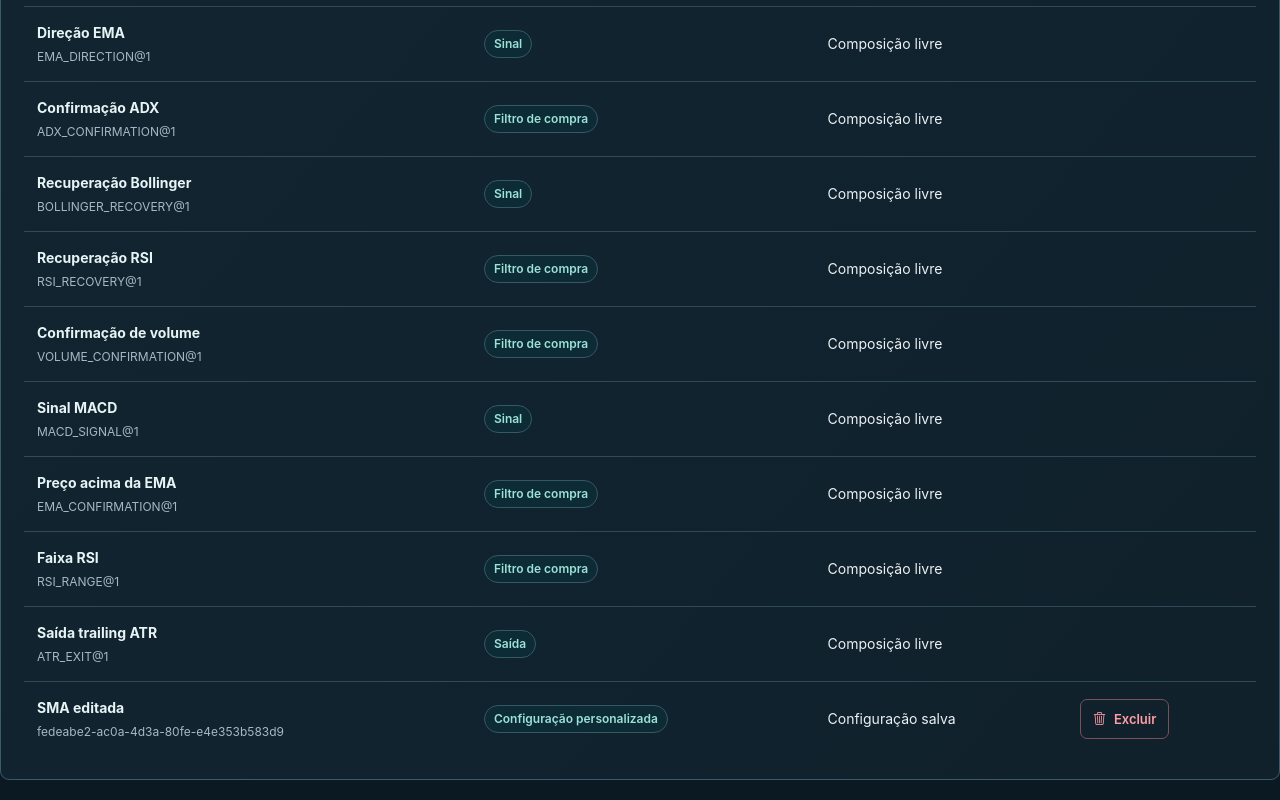
Scenario: bloqueia processamentos pelo ID preservado mesmo após alterar nome e parâmetros da origem
Later steps or results of the test are not shown.
(page scrolled)
Click the button "Excluir" at (1125, 719), box [1080,699,1169,739]
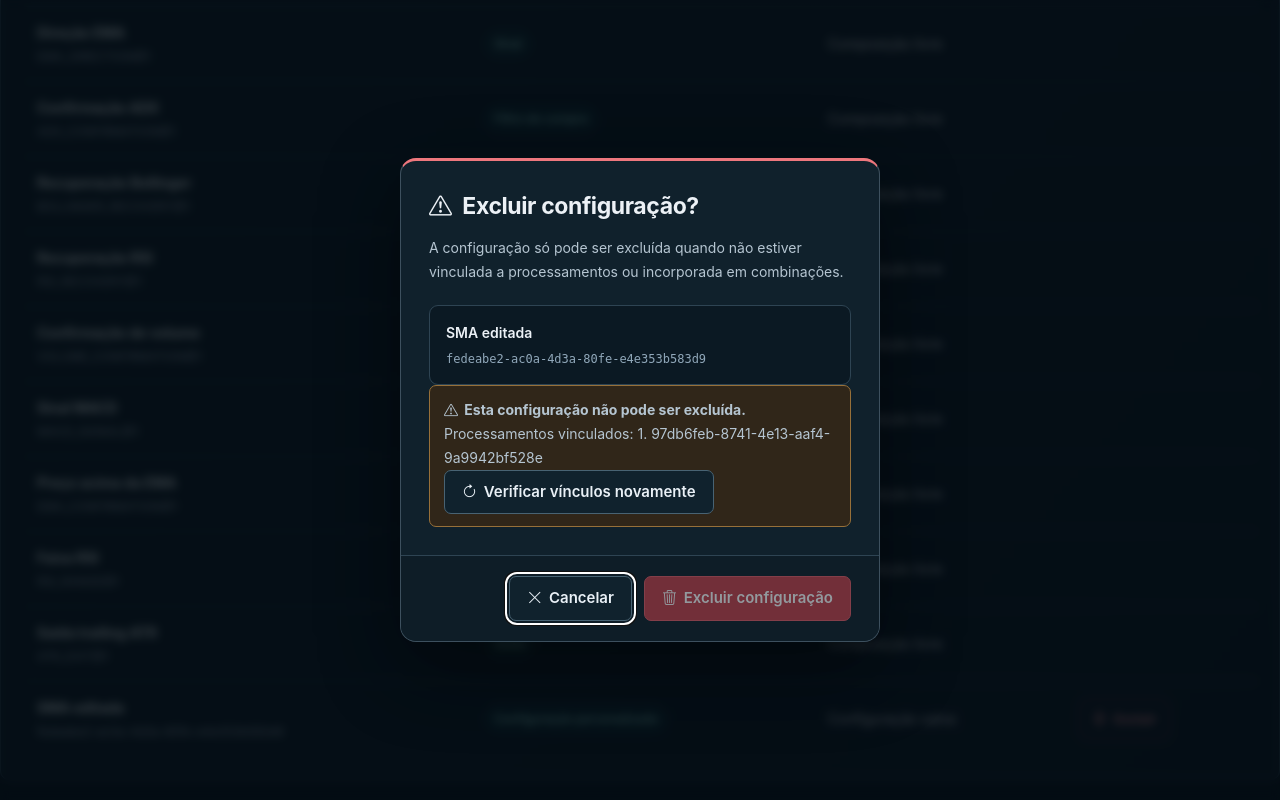
Now the button "Excluir configuração" is disabled, box [644,576,851,621]
